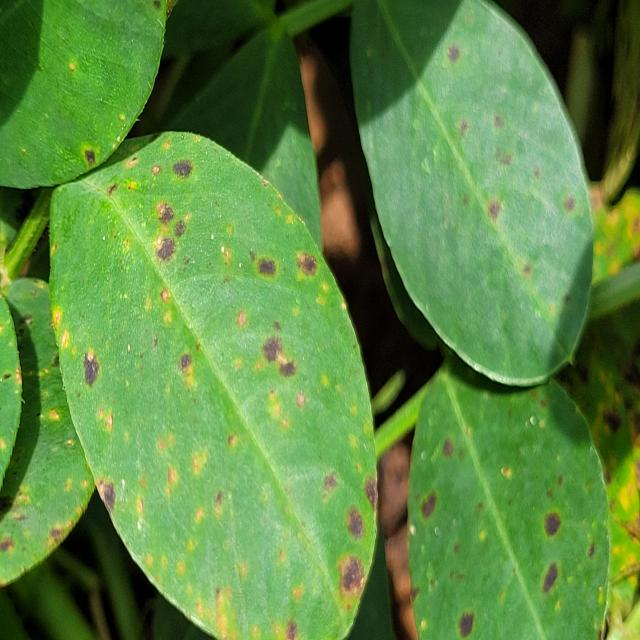Ground nut_tikka leaf spot: (48, 130, 380, 640), (409, 351, 610, 640)
